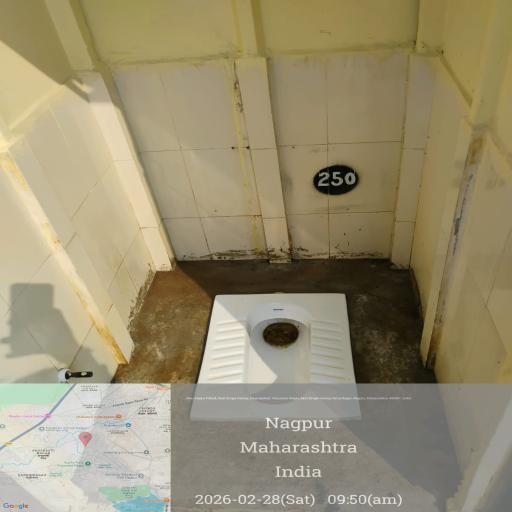clean_floor: (0, 0, 511, 142), (2, 155, 240, 239)
dirty_floor: (102, 264, 460, 389)
partial_dirty_floor: (282, 152, 400, 265), (64, 238, 136, 367), (199, 204, 286, 266)
partial_dirty_indian: (202, 294, 356, 381)
